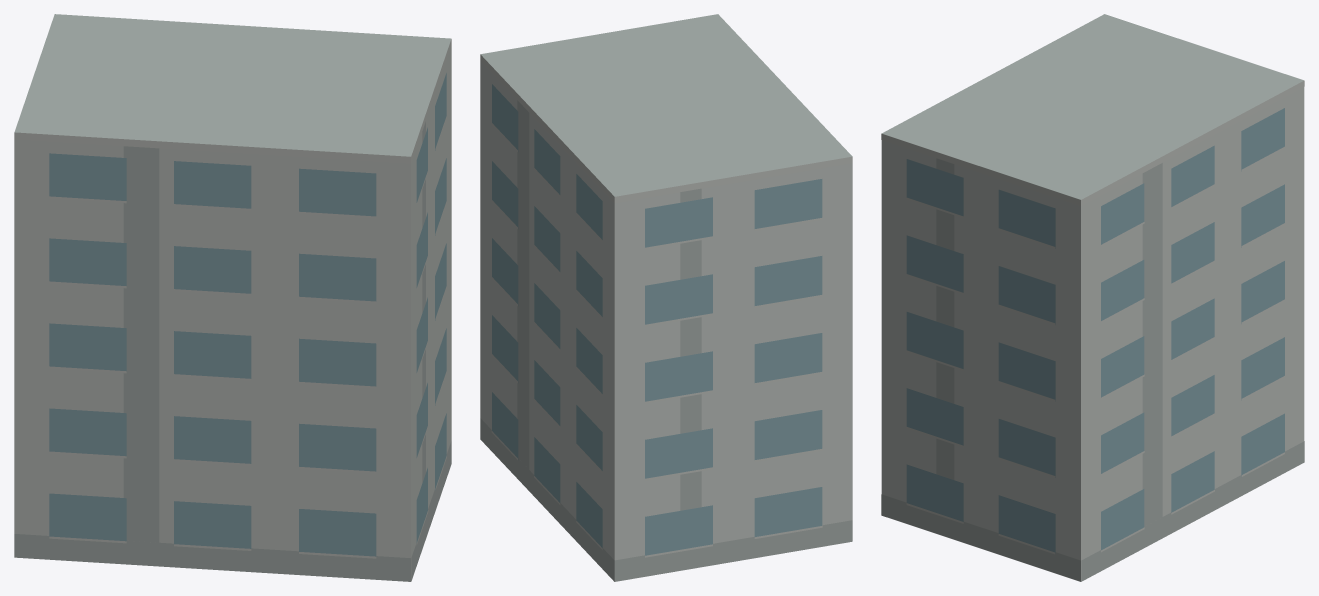
Rendered from survey-upis-32844562.glb.
3 renders of one model, left to right at view 1: azimuth 30°, elevation 25°; view 2: azimuth 150°, elevation 25°; view 3: azimuth 270°, elevation 25°, orthographic. The views are drawn at different scales.
Visible parts, largest first — view 1: survey-upis-32844562.tmp; view 2: survey-upis-32844562.tmp; view 3: survey-upis-32844562.tmp.
Boxes of the visible parts, x1=… form: survey-upis-32844562.tmp: x1=14, y1=14, x2=451, y2=581; survey-upis-32844562.tmp: x1=480, y1=14, x2=852, y2=581; survey-upis-32844562.tmp: x1=881, y1=14, x2=1304, y2=581.
Bounding box in the file's own units: 15.25 × 14.6 × 14.66.
